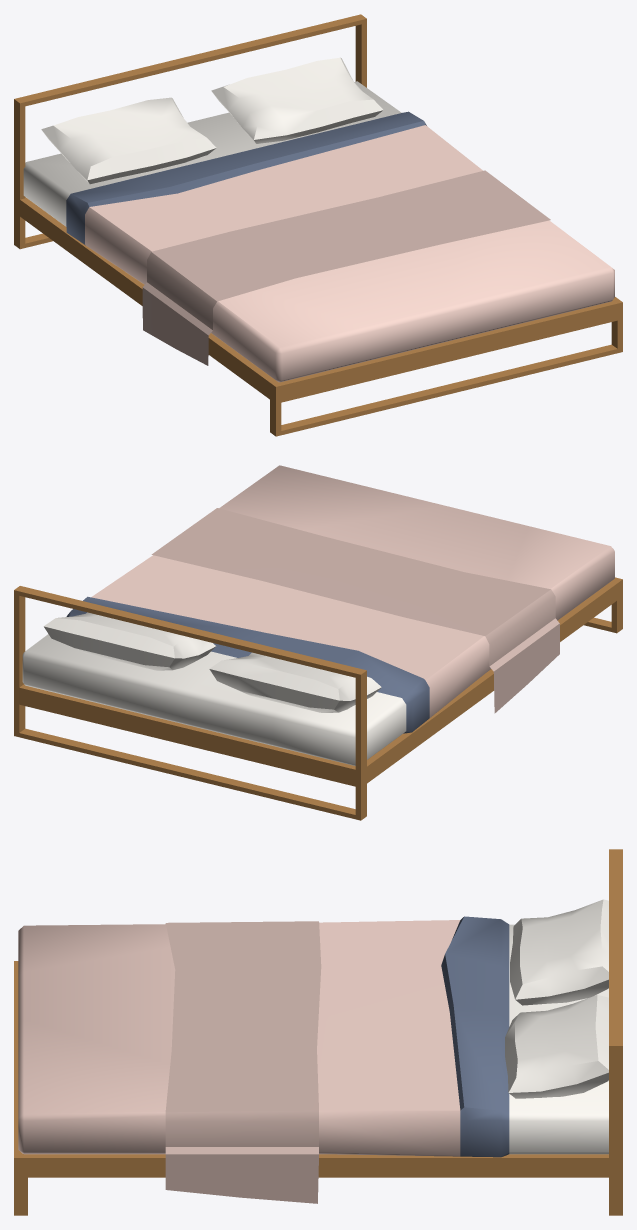
The model's file is Bed_King.glb.
3 views of the same model, one above another, from view 1: azimuth 30°, elevation 25°; view 2: azimuth 150°, elevation 25°; view 3: azimuth 270°, elevation 25° (orthographic). The views are drawn at different scales.
Visible parts, largest first — view 1: Bed_King; view 2: Bed_King; view 3: Bed_King.
Boxes of the visible parts, left/top/right/bottom form: Bed_King: left=14, top=14, right=622, bottom=436; Bed_King: left=14, top=465, right=622, bottom=820; Bed_King: left=14, top=849, right=622, bottom=1215.
Size of the model in its own units: 3.06 by 1.21 by 3.95.
